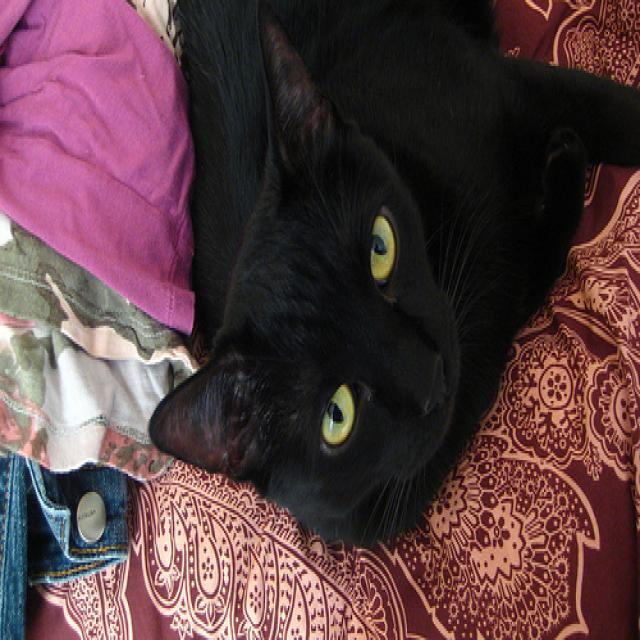Bombay: (143, 4, 469, 552)
